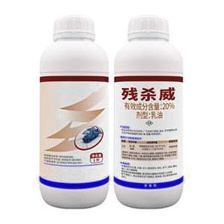book: (110, 10, 187, 210), (34, 13, 110, 210)
